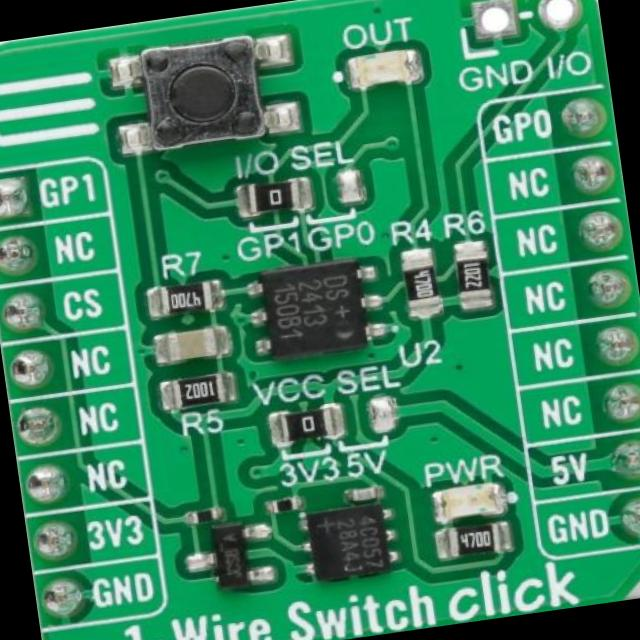IC: (245, 258, 394, 367), (301, 503, 399, 584)
LED: (347, 46, 427, 90), (432, 482, 509, 524)
capacitor: (151, 324, 231, 369), (346, 484, 382, 504)
resistor: (142, 276, 229, 324), (158, 366, 236, 414), (268, 400, 346, 448), (240, 174, 312, 219), (454, 238, 494, 314), (400, 246, 440, 320), (436, 522, 512, 560), (268, 495, 302, 514), (186, 508, 221, 526)
transistor: (186, 518, 277, 592)
